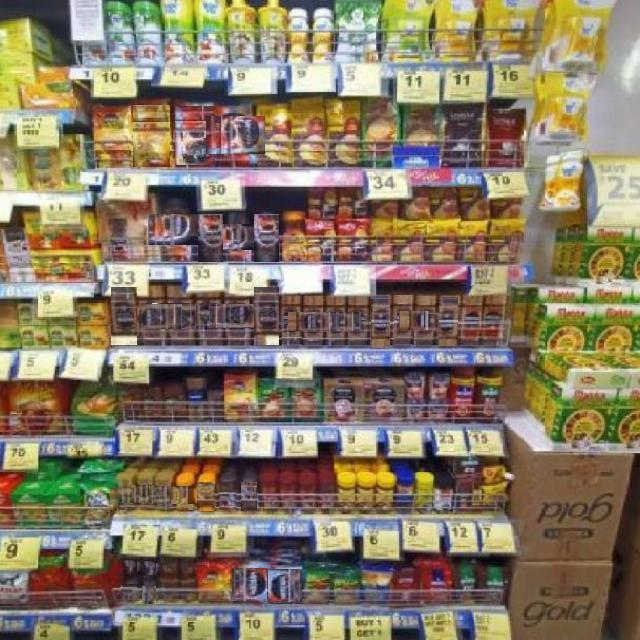Coffee: (174, 106, 215, 165), (132, 105, 170, 167), (205, 116, 265, 154), (95, 108, 131, 169), (147, 214, 212, 245), (152, 302, 211, 329), (197, 286, 223, 345), (111, 286, 137, 345), (253, 286, 279, 345), (122, 304, 182, 329), (225, 375, 257, 421), (208, 305, 267, 328), (197, 213, 223, 262), (253, 213, 279, 262), (282, 212, 307, 262), (215, 225, 263, 250), (198, 565, 231, 601), (232, 569, 267, 601), (269, 569, 302, 602), (399, 310, 450, 330), (371, 295, 390, 348), (311, 311, 361, 331), (438, 297, 458, 346), (282, 297, 302, 346), (394, 296, 413, 346), (288, 312, 338, 331), (348, 296, 366, 347), (196, 482, 215, 511), (130, 486, 163, 502), (148, 487, 181, 503), (169, 487, 199, 504), (219, 481, 236, 511), (241, 482, 257, 511), (110, 488, 140, 503), (143, 586, 156, 604), (143, 560, 156, 576), (124, 560, 137, 575), (122, 585, 137, 598)
